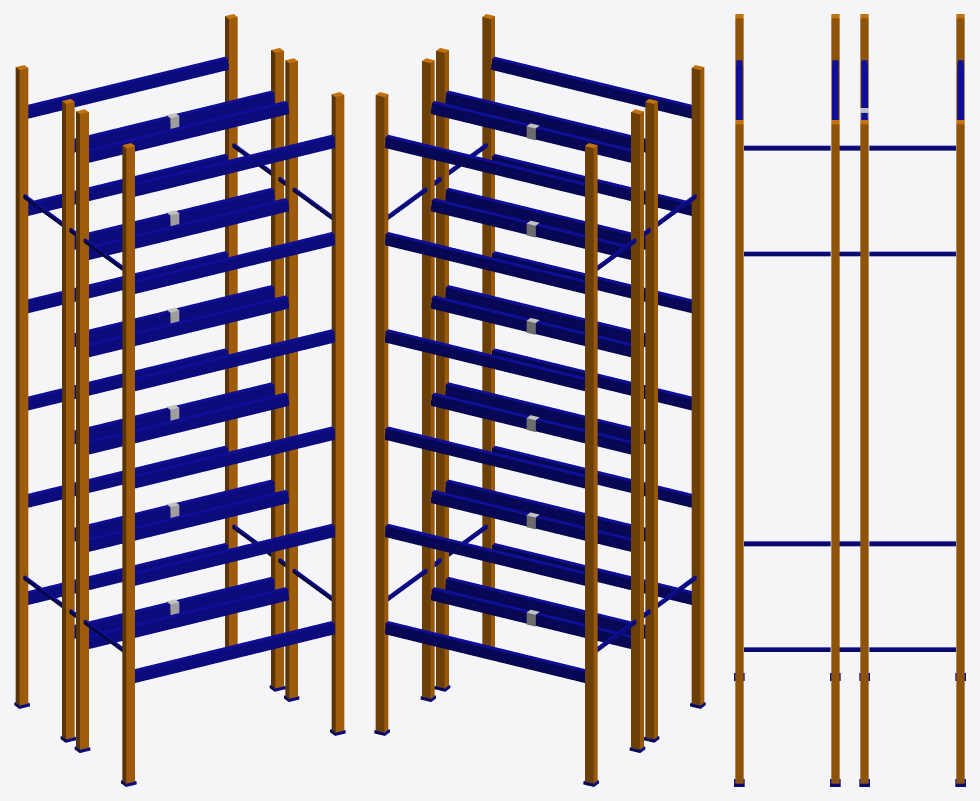
Rendered from high-duty-C25-6-pair.glb.
The picture shows the model from 3 angles, left to right: view 1: azimuth 30°, elevation 25°; view 2: azimuth 150°, elevation 25°; view 3: azimuth 270°, elevation 25°; orthographic projection. The views are drawn at different scales.
Parts seen in each view (by area): view 1: group1_geometry_4, group2_geometry_2, group2_geometry_0, group2_geometry_4, group1_geometry_0, group2_geometry_6, group1_geometry_2, group1_geometry_6, group2_geometry_8, group2_geometry_16, group2_geometry_24, group2_geometry_12 (+39 smaller); view 2: group2_geometry_0, group1_geometry_6, group1_geometry_4, group1_geometry_0, group2_geometry_4, group1_geometry_2, group2_geometry_6, group2_geometry_2, group1_geometry_10, group1_geometry_20, group1_geometry_30, group1_geometry_15 (+39 smaller); view 3: group1_geometry_2, group1_geometry_6, group2_geometry_2, group2_geometry_6, group1_geometry_4, group2_geometry_0, group2_geometry_4, group1_geometry_0, group1_geometry_38, group1_geometry_39, group1_geometry_41, group2_geometry_32 (+7 smaller).
Part boxes in pixels (box(x1,y1,x2,y2)): group1_geometry_4: box(15, 65, 28, 705); group2_geometry_2: box(331, 92, 344, 732); group2_geometry_0: box(122, 143, 134, 783); group2_geometry_4: box(76, 109, 88, 749); group1_geometry_0: box(62, 99, 74, 739); group2_geometry_6: box(285, 58, 297, 698); group1_geometry_2: box(271, 48, 283, 688); group1_geometry_6: box(225, 14, 237, 646); group2_geometry_8: box(135, 621, 334, 677); group2_geometry_16: box(135, 426, 334, 482); group2_geometry_24: box(135, 232, 334, 288); group2_geometry_12: box(135, 524, 334, 579); group2_geometry_0: box(691, 65, 704, 705); group1_geometry_6: box(375, 92, 388, 732); group1_geometry_4: box(585, 143, 597, 783); group1_geometry_0: box(631, 109, 643, 749); group2_geometry_4: box(645, 99, 657, 739); group1_geometry_2: box(422, 58, 434, 698); group2_geometry_6: box(436, 48, 448, 688); group2_geometry_2: box(482, 14, 494, 646); group1_geometry_10: box(385, 621, 584, 677); group1_geometry_20: box(385, 426, 584, 482); group1_geometry_30: box(385, 232, 584, 288); group1_geometry_15: box(385, 524, 584, 579); group1_geometry_2: box(860, 120, 868, 783); group1_geometry_6: box(956, 120, 964, 783); group2_geometry_2: box(735, 120, 743, 783); group2_geometry_6: box(831, 120, 839, 783); group1_geometry_4: box(956, 14, 964, 119); group2_geometry_0: box(735, 14, 743, 119); group2_geometry_4: box(831, 14, 839, 119); group1_geometry_0: box(860, 14, 868, 107); group1_geometry_38: box(869, 541, 955, 546); group1_geometry_39: box(869, 145, 955, 150); group1_geometry_41: box(869, 251, 955, 256); group2_geometry_32: box(744, 541, 830, 546).
Size of the model in its own units: 2520 by 7000 by 2220.
